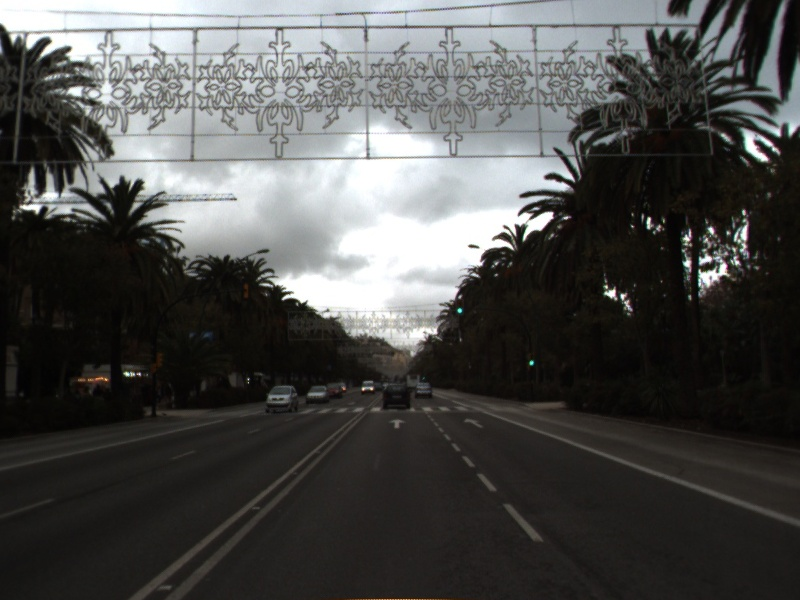STRAIGHT: (461, 416, 486, 430), (386, 416, 409, 430)
